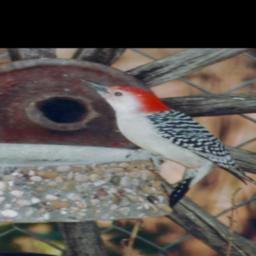Woodpecker: (73, 80, 256, 211)
